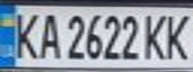2: (118, 10, 142, 61), (63, 10, 87, 61), (103, 10, 124, 61)
6: (81, 11, 106, 61)
A: (33, 9, 63, 61)
K: (9, 8, 42, 61), (160, 10, 193, 61), (139, 10, 172, 61)
